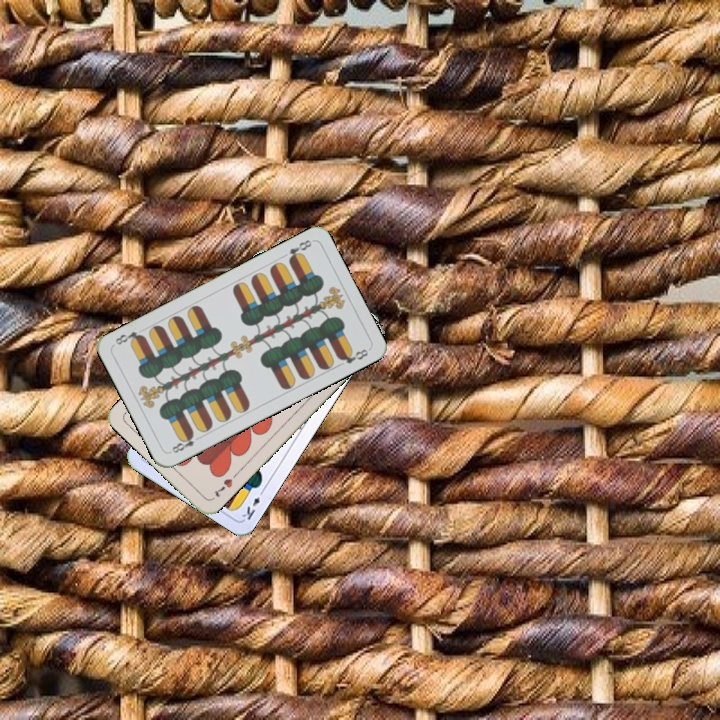E8: (166, 429, 204, 456), (284, 236, 314, 265)
EK: (238, 485, 267, 523)
H7: (210, 474, 235, 499)
